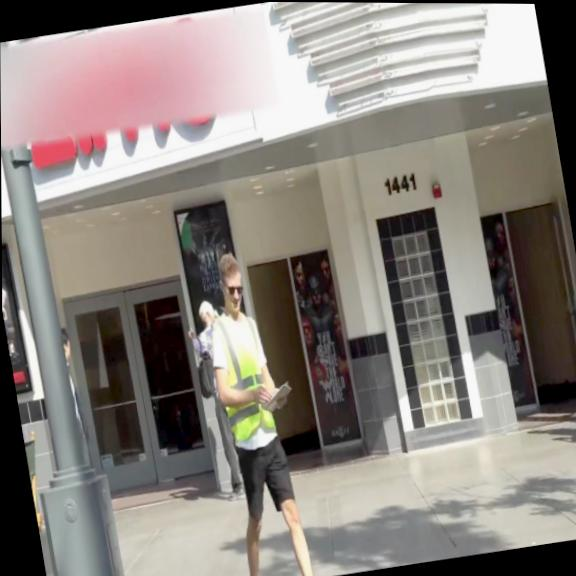safety_vest: (210, 308, 278, 443)
